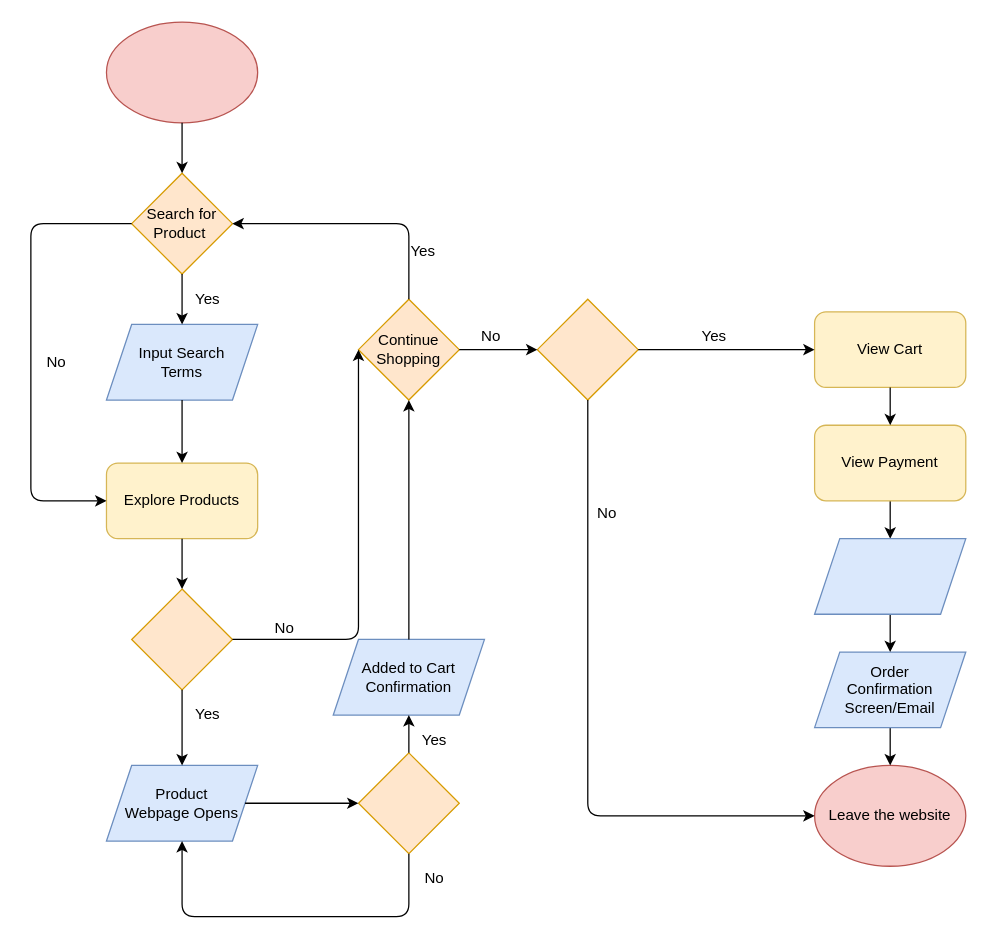
Image size: 988x949. Some labels were removed from this diagram. Each missing label, with the centre of its shape:
"Add to Cart" goes at (x=408, y=803).
"Check Out" goes at (x=587, y=349).
"Enter the website" goes at (x=181, y=72).
"Input Payment Information" goes at (x=889, y=575).
"View Specific Product" goes at (x=181, y=639).
